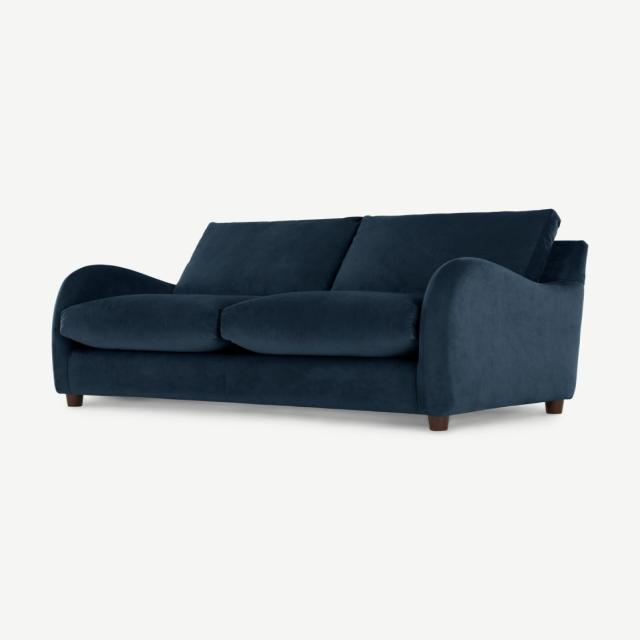Soffa: (45, 206, 601, 441)
